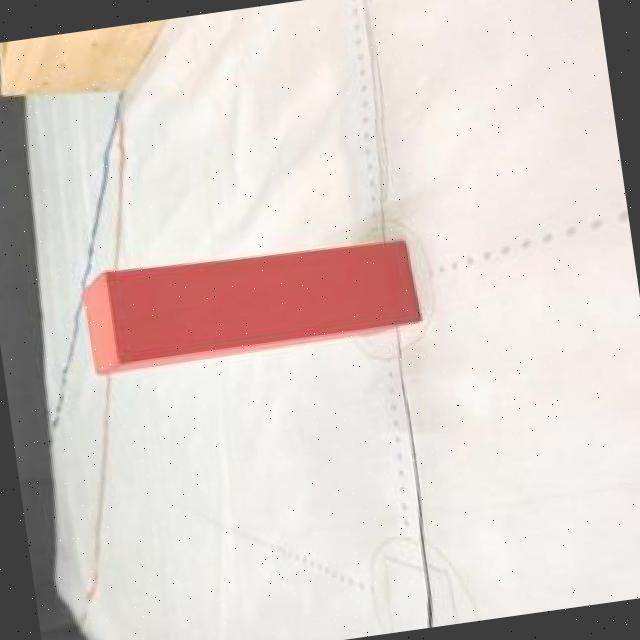redbox: (82, 228, 423, 374)
